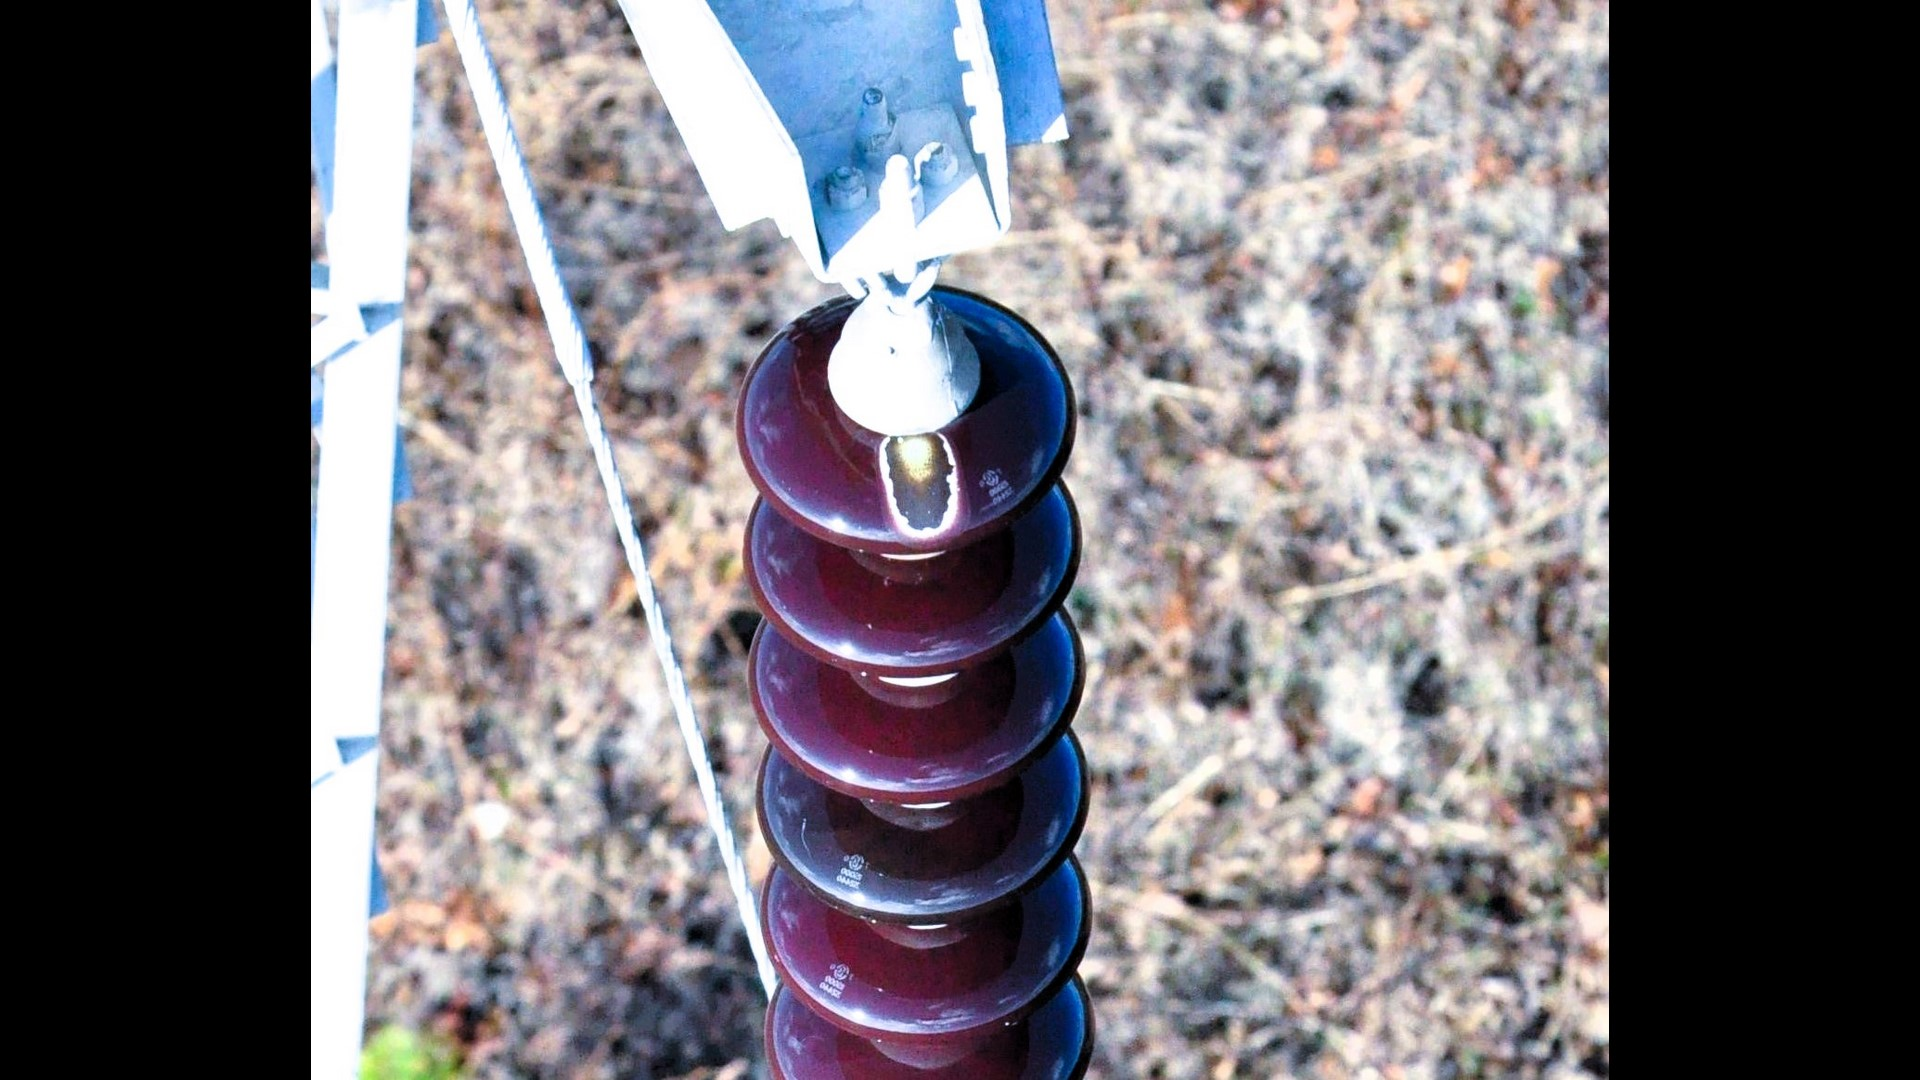Insulator flashover: (731, 272, 1083, 566)
